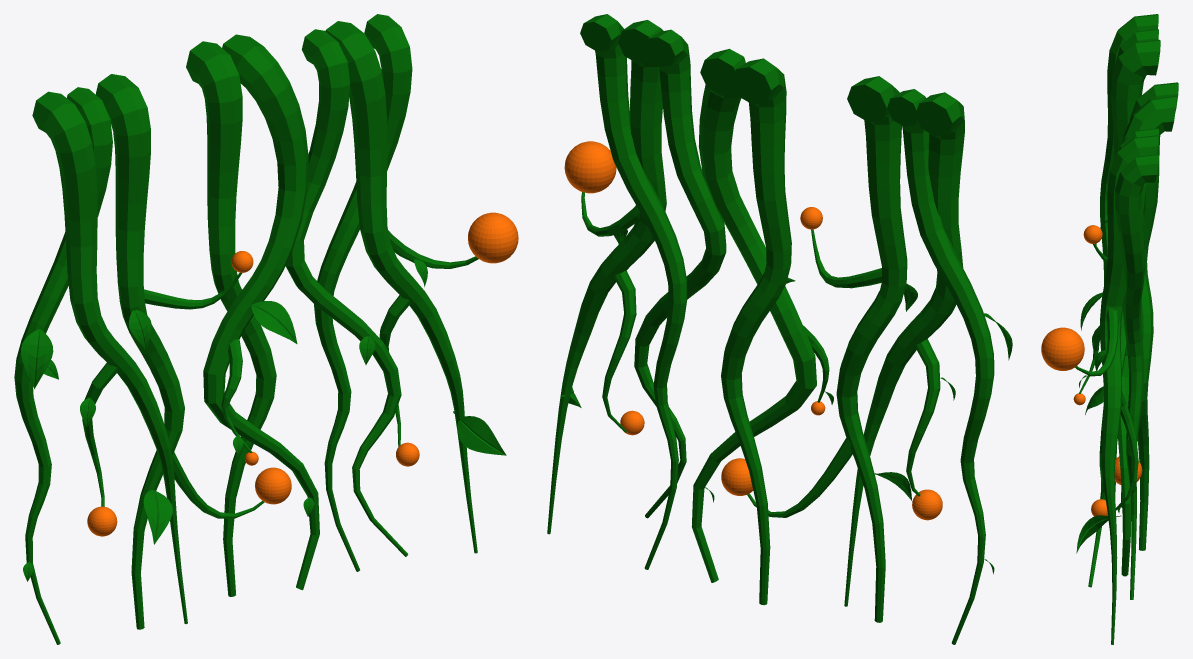
File: Plante T 2_ mesh.fbx
3 views of the same model, side by side, from view 1: azimuth 30°, elevation 25°; view 2: azimuth 150°, elevation 25°; view 3: azimuth 270°, elevation 25° (orthographic). The views are drawn at different scales.
Parts seen in each view (by area): view 1: Sphère.004; view 2: Sphère.004; view 3: Sphère.004.
Part boxes in pixels (x1,y1,x2,y2): Sphère.004: [14, 14, 518, 644]; Sphère.004: [547, 14, 1012, 644]; Sphère.004: [1041, 14, 1178, 644].
Bounding box in the file's own units: 611 × 684 × 184.
